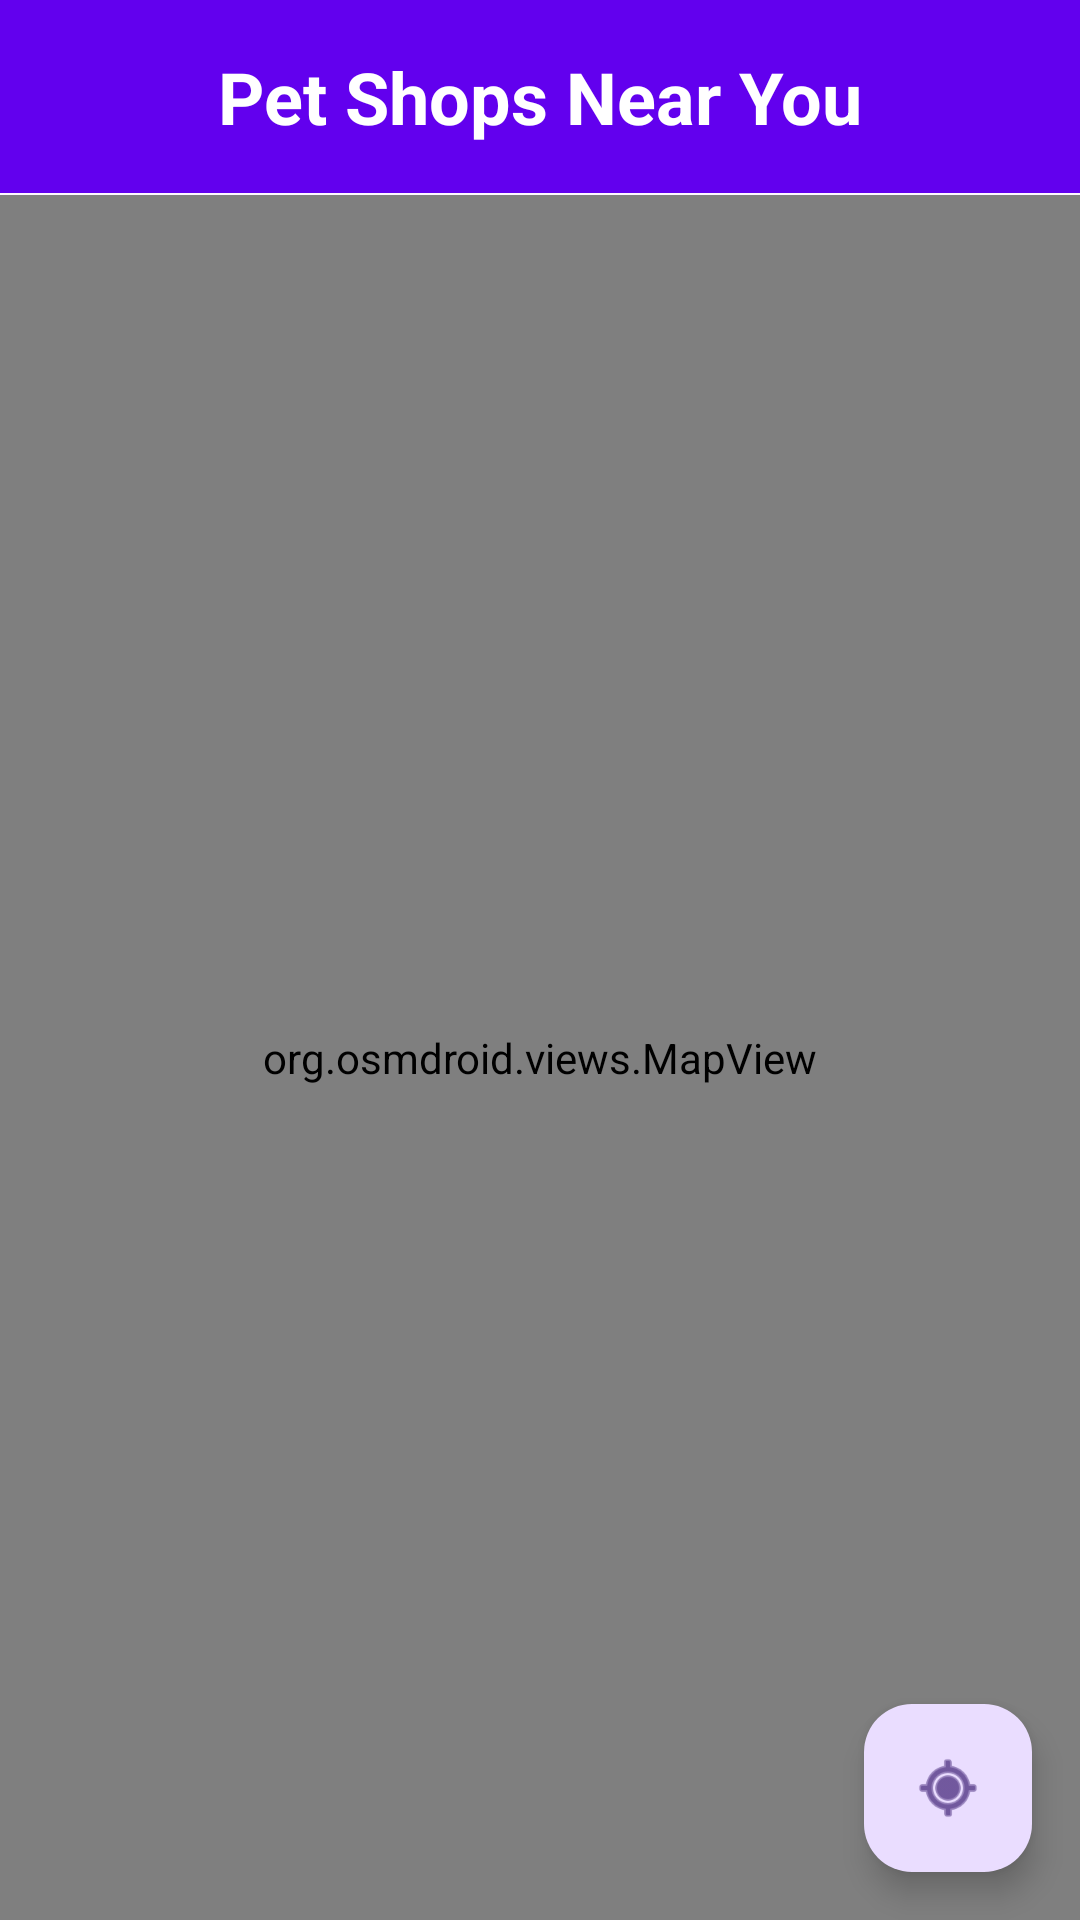

Icons on this 1080w x 1920h Android screen, each with its box as (x1, y1, x2, y2):
My location: (864, 1704, 1032, 1872)
